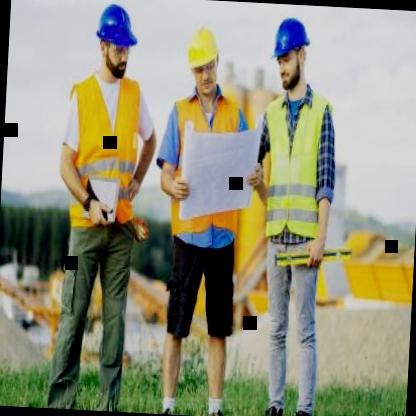helmet: (88, 0, 138, 85), (266, 8, 314, 96), (182, 15, 225, 104)
